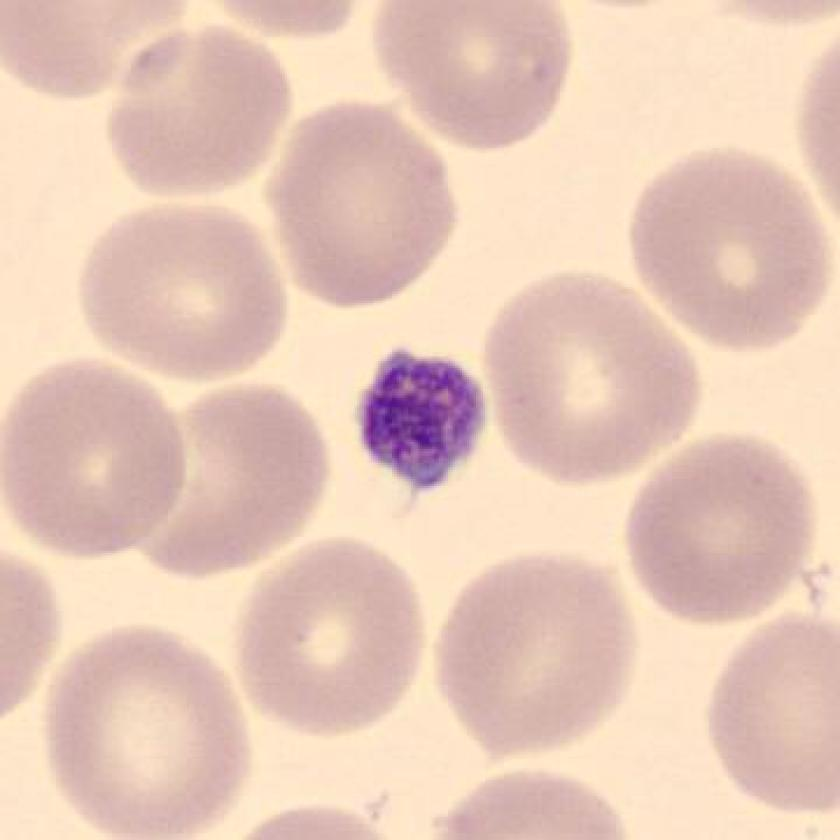platelets: (349, 335, 498, 506)
